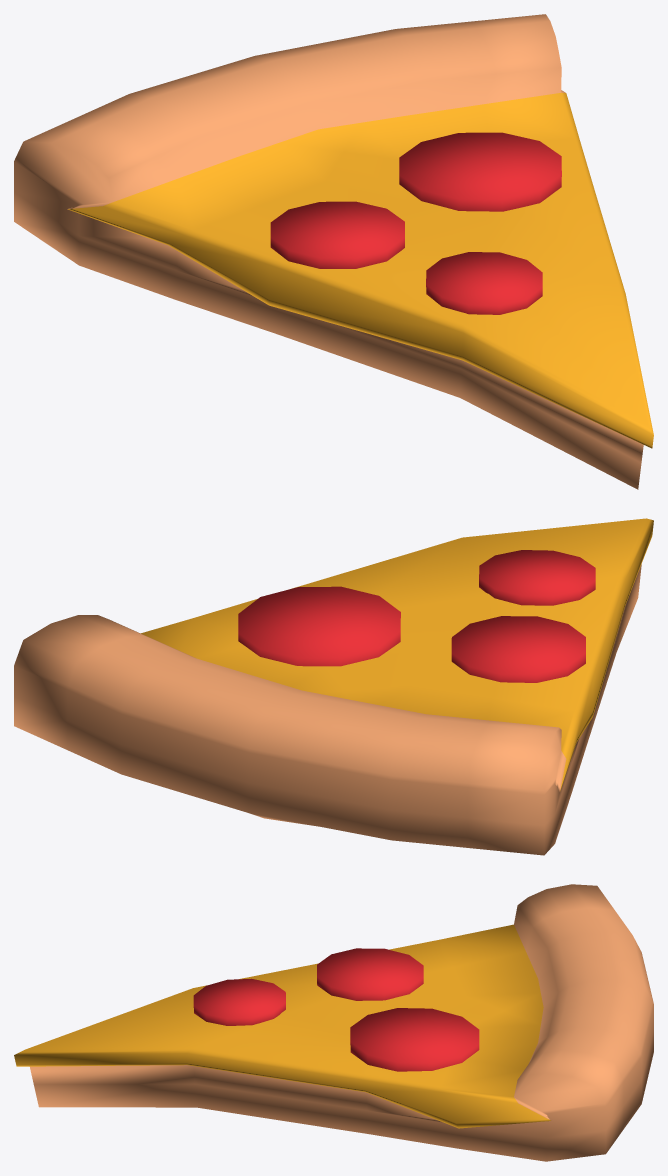
The model's file is Pizza.fbx.
3 renders of one model, top to bottom at view 1: azimuth 30°, elevation 25°; view 2: azimuth 150°, elevation 25°; view 3: azimuth 270°, elevation 25°, orthographic. The views are drawn at different scales.
Parts seen in each view (by area): view 1: Pizza; view 2: Pizza; view 3: Pizza.
Boxes of the visible parts, x1,y1,x2,y2 form: Pizza: (14, 14, 653, 489); Pizza: (14, 518, 653, 855); Pizza: (14, 884, 653, 1161).
Size of the model in its own units: 34.9 by 10.1 by 46.19.
